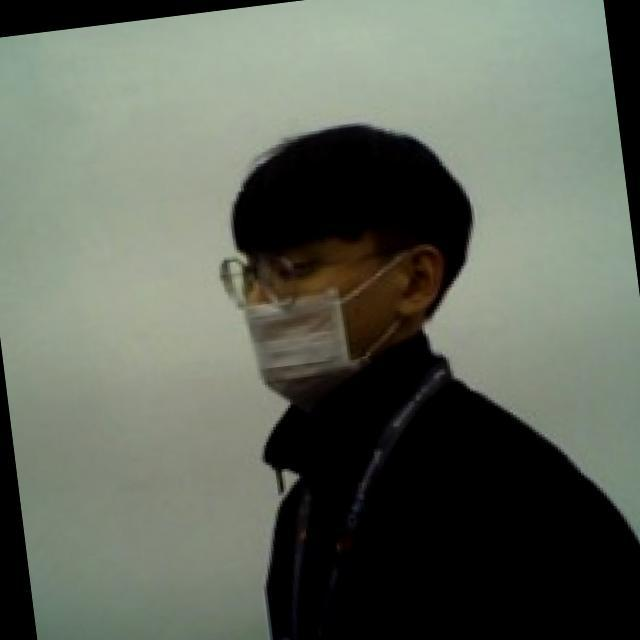mask: (230, 242, 456, 420)
no_gloves: (212, 96, 486, 301)
